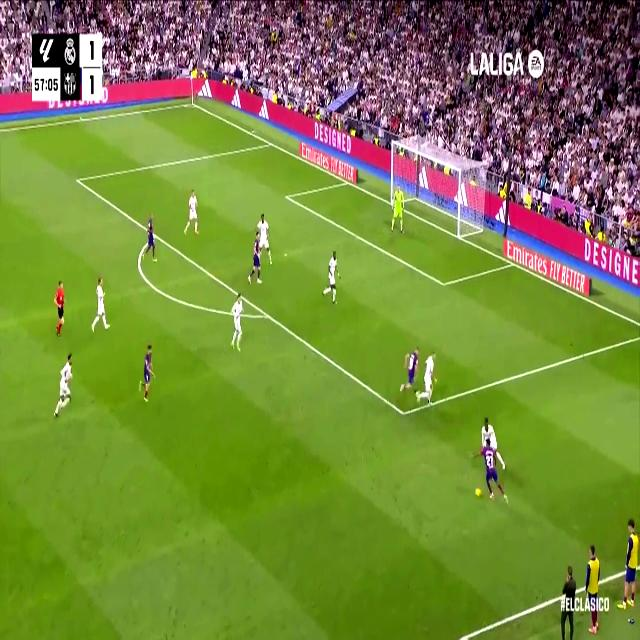bigarea_bottom_inner: (398, 403, 408, 423)
bigarea_top_inner: (73, 169, 82, 189)
bigarea_top_outter: (266, 136, 274, 150)
bottom_arc_area_intersection: (262, 304, 272, 325)
corner: (187, 97, 197, 109)
smallarea_top_inner: (284, 190, 290, 203)
